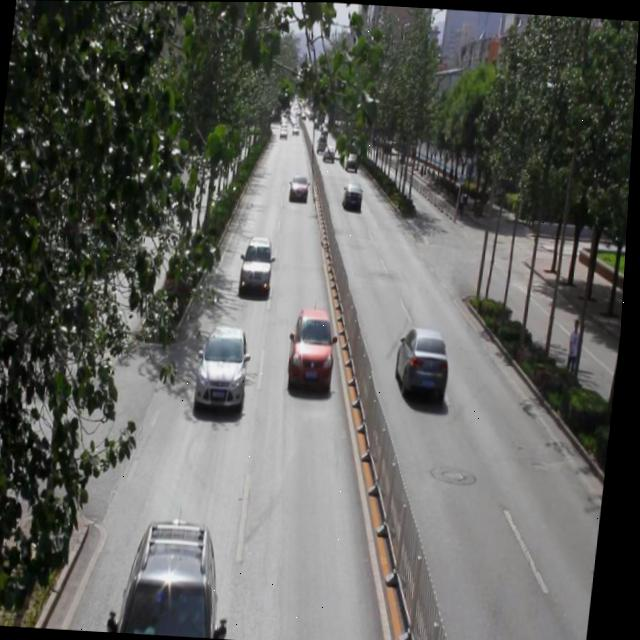car: (125, 517, 231, 638), (198, 323, 256, 409), (287, 306, 342, 393), (396, 323, 457, 396), (242, 233, 279, 295), (344, 180, 366, 209), (289, 172, 312, 198), (323, 142, 338, 162), (346, 149, 361, 169)
truck: (318, 131, 329, 151)
